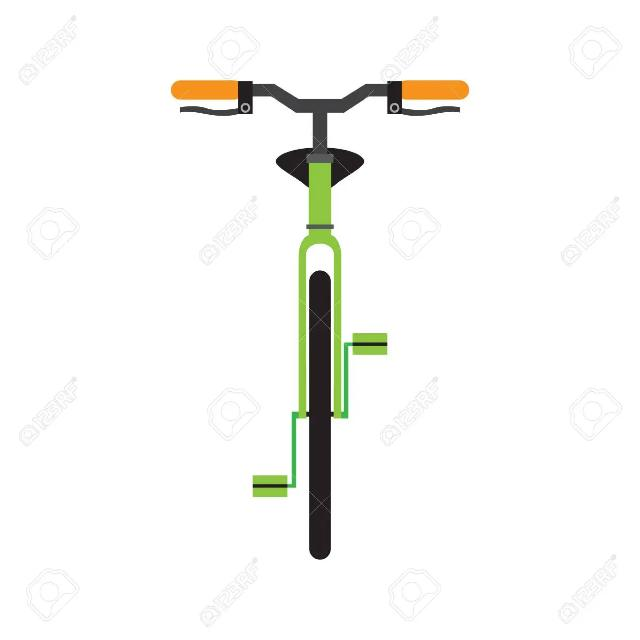obstacle: (148, 47, 504, 606)
